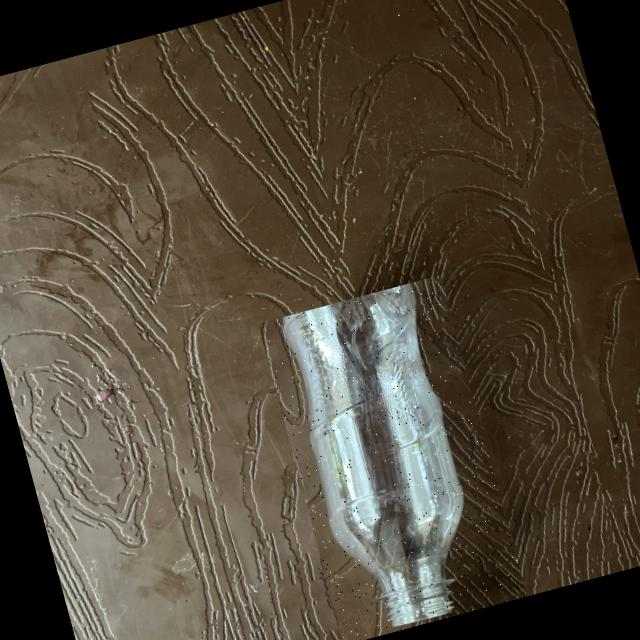PET_ClearBottle: (256, 273, 525, 640)
